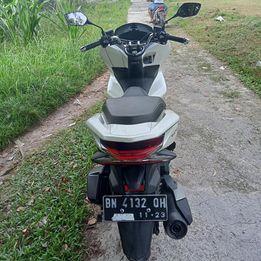plate: (100, 195, 171, 223)
